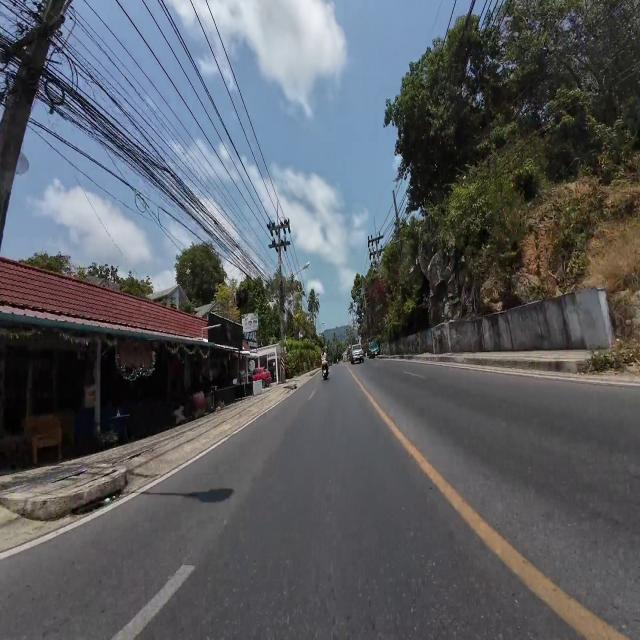car: (253, 367, 271, 387), (351, 345, 364, 364)
motorcycle: (322, 361, 328, 380)
